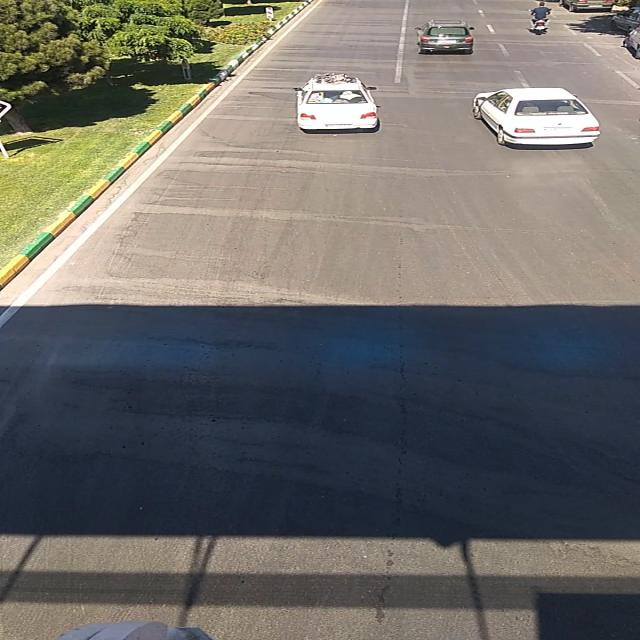car: (468, 85, 600, 149), (285, 76, 386, 130), (410, 20, 476, 54)
motor: (526, 2, 556, 38)
